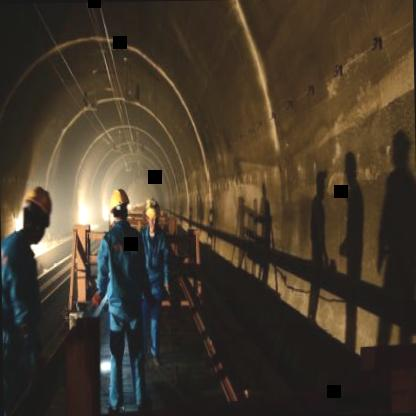helmet: (18, 183, 53, 243), (106, 186, 130, 229), (142, 190, 162, 235)
